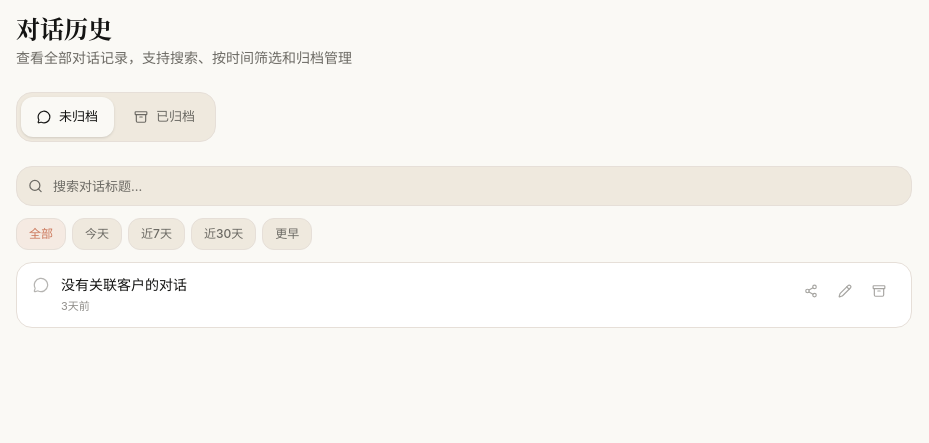
Scenario: conversation archive management › shows a failed archive query and supports retrying it
The image size is (929, 443).
Click the button "已归档".
click(164, 117)  # box [118,97,211,137]
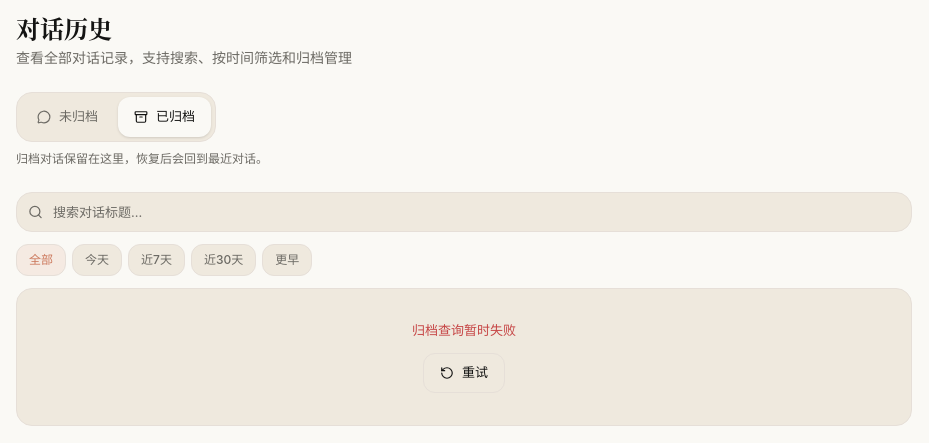
Now the text "归档查询暂时失败" is shown, box [412,322,516,338]
Now the button "重试" is shown
Click the button "重试".
click(464, 372)  # box [423,352,505,392]
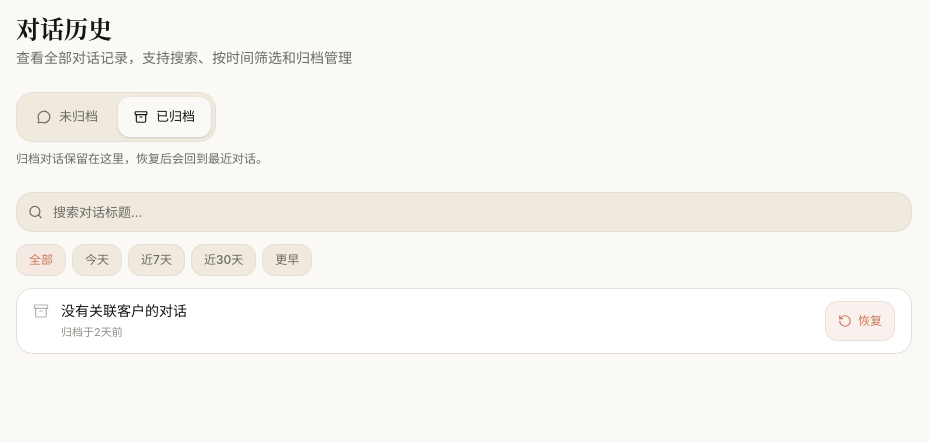
Now the text "没有关联客户的对话" is shown, box [61,302,187,319]
